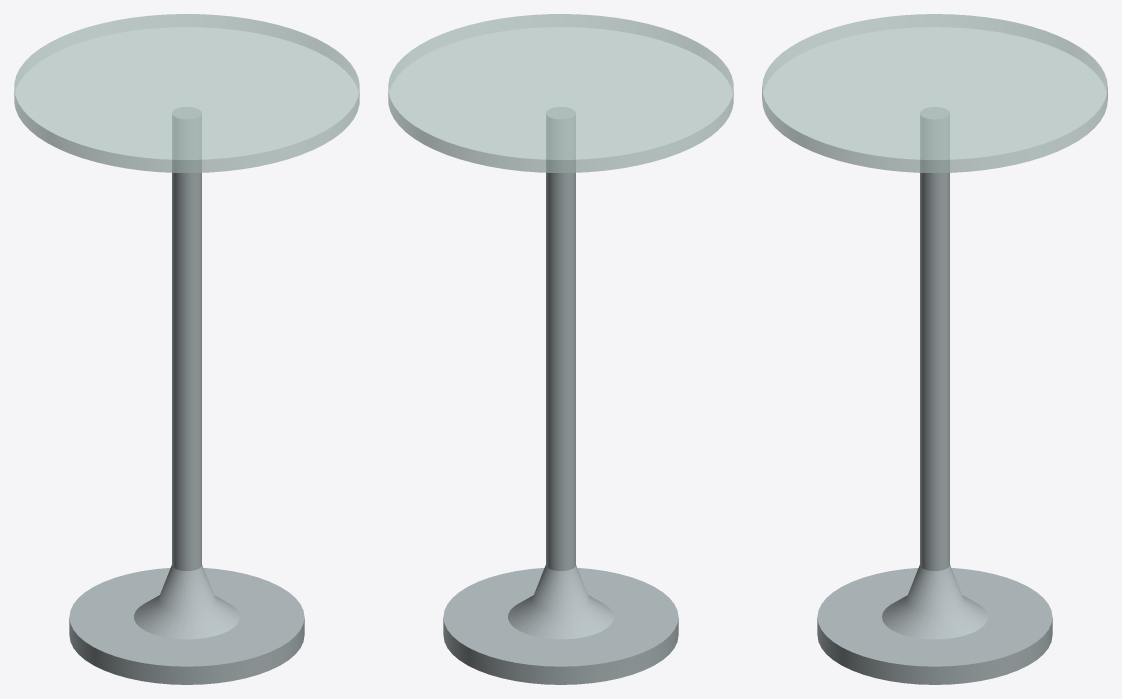
The model's file is prod-1773061941304-gu1ti.glb.
3 renders of one model, left to right at view 1: azimuth 30°, elevation 25°; view 2: azimuth 150°, elevation 25°; view 3: azimuth 270°, elevation 25°, orthographic.
Visible parts, largest first — view 1: Round or oval tabletop.007, Pedestal foot.005; view 2: Round or oval tabletop.007, Pedestal foot.005; view 3: Round or oval tabletop.007, Pedestal foot.005.
Boxes of the visible parts, box(x1,y1,x2,y2) form: Round or oval tabletop.007: box(14, 14, 359, 172); Pedestal foot.005: box(69, 107, 304, 684); Round or oval tabletop.007: box(388, 14, 733, 172); Pedestal foot.005: box(443, 107, 678, 684); Round or oval tabletop.007: box(762, 14, 1107, 173); Pedestal foot.005: box(817, 107, 1052, 684).
Size of the model in its own units: 0.6 by 1.05 by 0.6.
